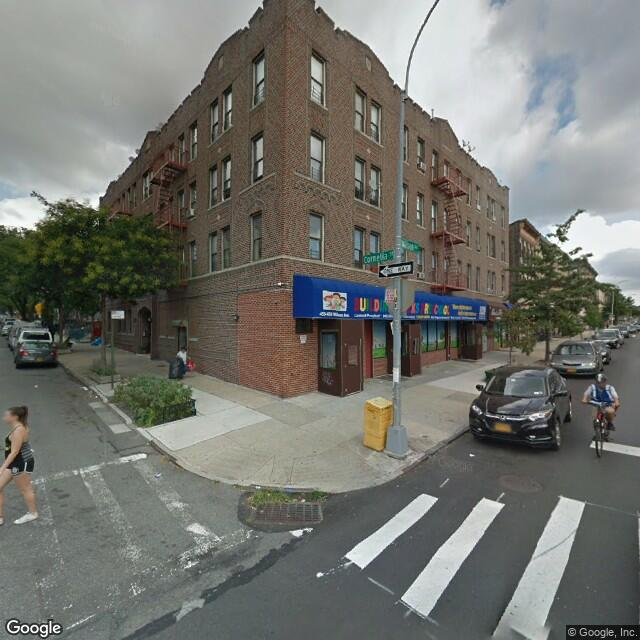litter: (154, 471, 162, 477), (81, 385, 88, 391), (468, 454, 475, 457), (34, 382, 37, 385)
